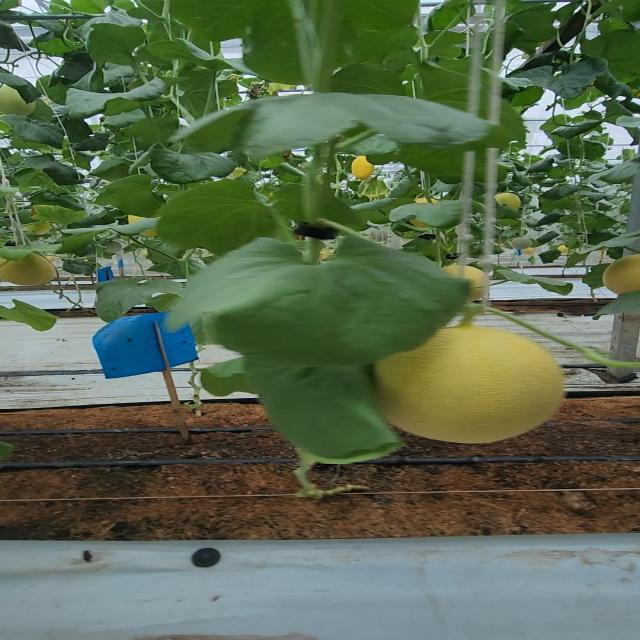Melon: (366, 332, 581, 444)
